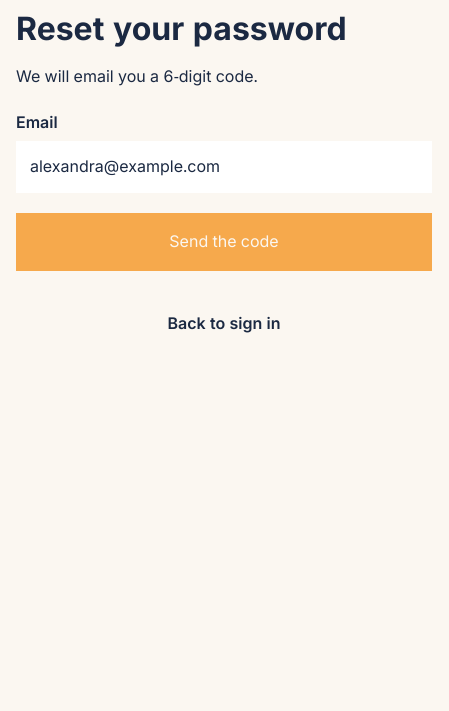
Test: the field exists here and only here › the reset form asks for the new password once
Click the button "Send the code".
click(224, 242)  # box [16,213,432,271]
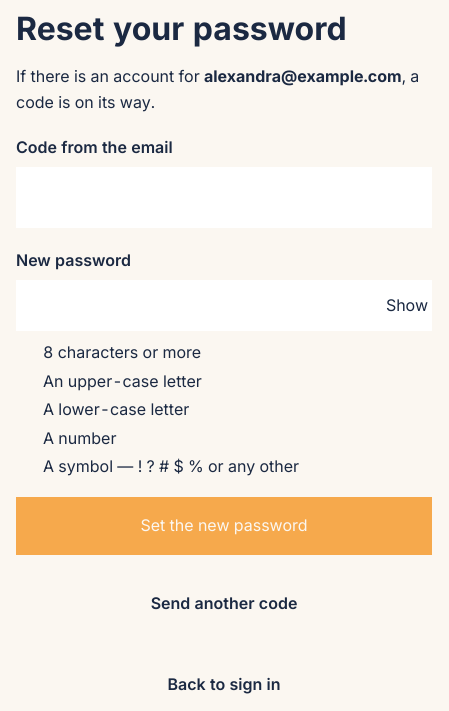
Result: the number of password fields is 1 at [16,280,432,331]
